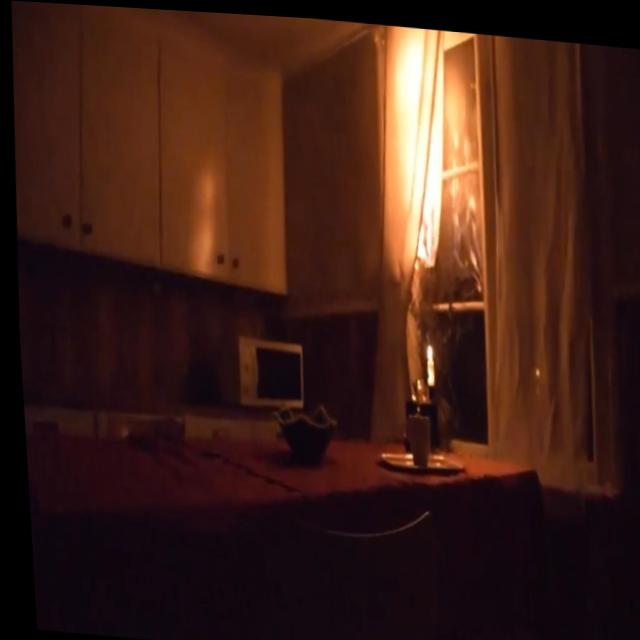fire: (377, 20, 462, 264), (421, 335, 430, 354)
